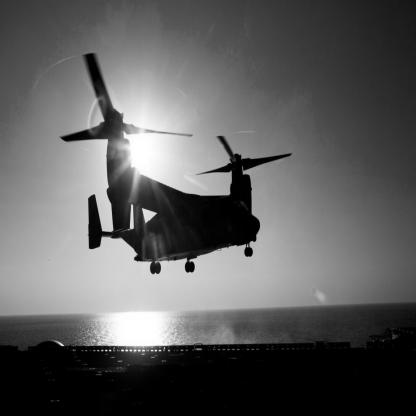V22: (60, 53, 294, 275)
